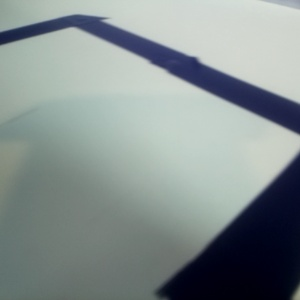bottom_left: (100, 29, 195, 64)
